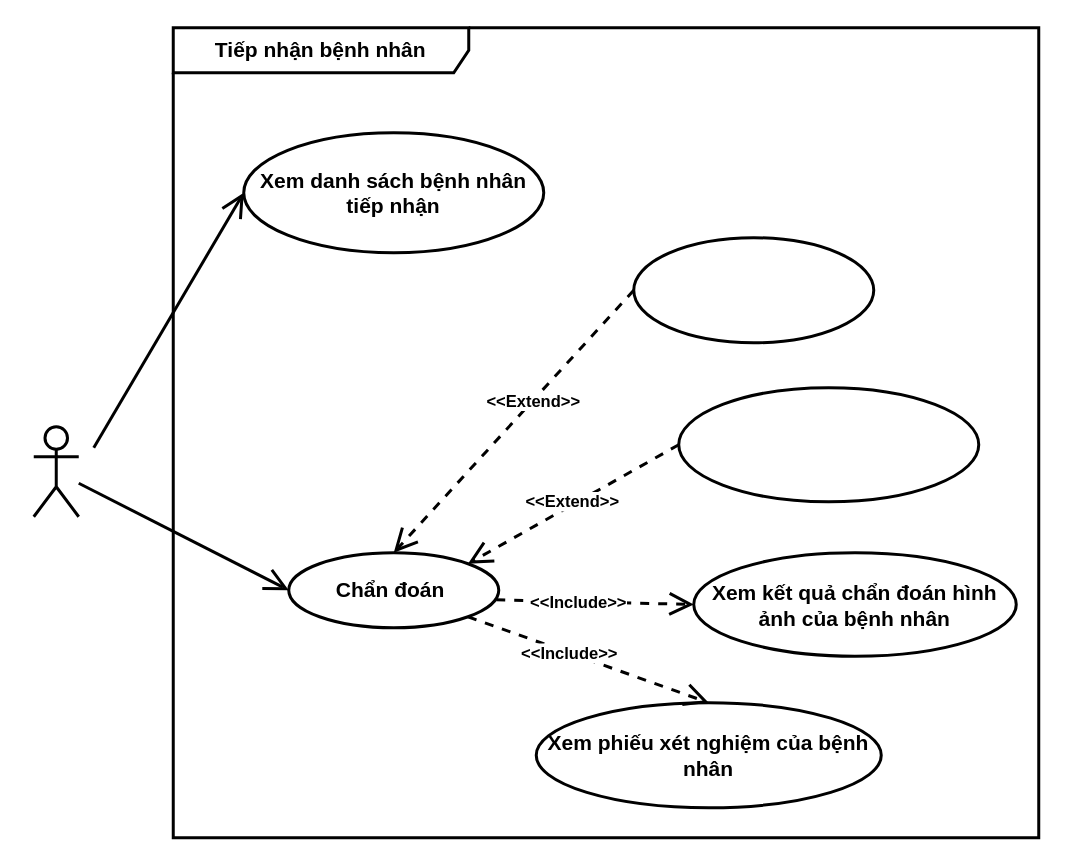
The diagram is 1067 pixels wide and 864 high, and some of its shapes have lost their labels. Here are the shapes that lost their labels. From the top down, the centre of each, then its label:
the point at 753,290: Điều phối bệnh nhân làm xét nghiệm
the point at 828,444: Điều phối bệnh nhân chụp chẩn đoán hình ảnh
the point at 56,471: Bác sĩ
